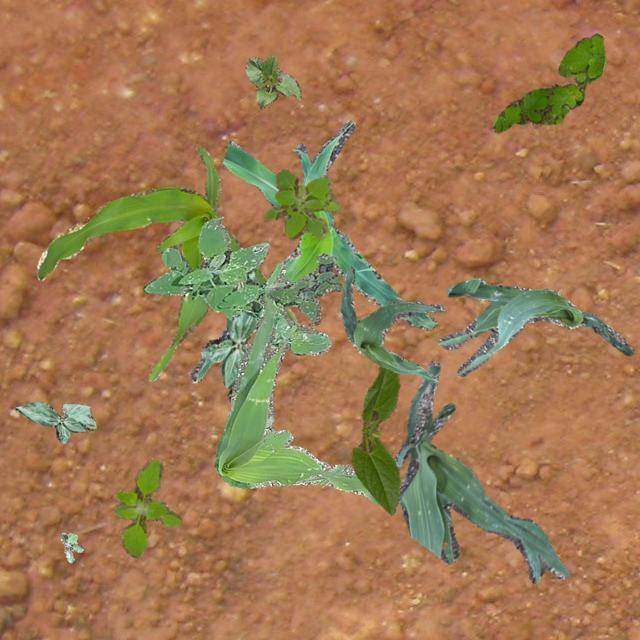crop: (190, 118, 436, 382), (35, 144, 297, 380), (392, 360, 568, 582), (438, 278, 632, 376), (339, 266, 444, 382), (200, 269, 258, 402), (350, 364, 400, 514), (15, 400, 94, 442), (244, 54, 300, 108)
weed: (213, 297, 379, 503), (143, 216, 330, 354), (492, 32, 604, 132), (114, 458, 180, 556), (266, 252, 342, 324), (264, 168, 339, 238), (58, 532, 82, 562)
